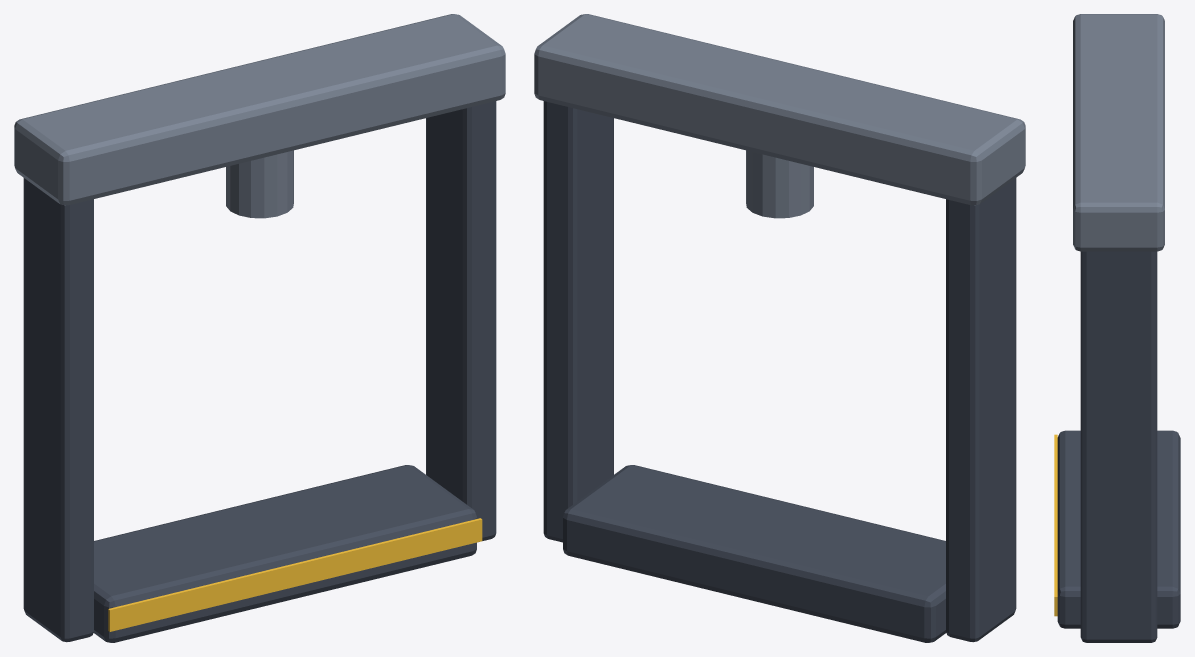
File: trap_crusher_frame.glb
The picture shows the model from 3 angles, left to right: view 1: azimuth 30°, elevation 25°; view 2: azimuth 150°, elevation 25°; view 3: azimuth 270°, elevation 25°; orthographic projection. The views are drawn at different scales.
Visible parts, largest first — view 1: trap_crusher_frame; view 2: trap_crusher_frame; view 3: trap_crusher_frame.
Boxes of the visible parts, x1,y1,x2,y2 form: trap_crusher_frame: (14,14,505,642); trap_crusher_frame: (534,14,1025,642); trap_crusher_frame: (1054,14,1180,642).
Bounding box in the file's own units: 3 × 3.17 × 0.82.
